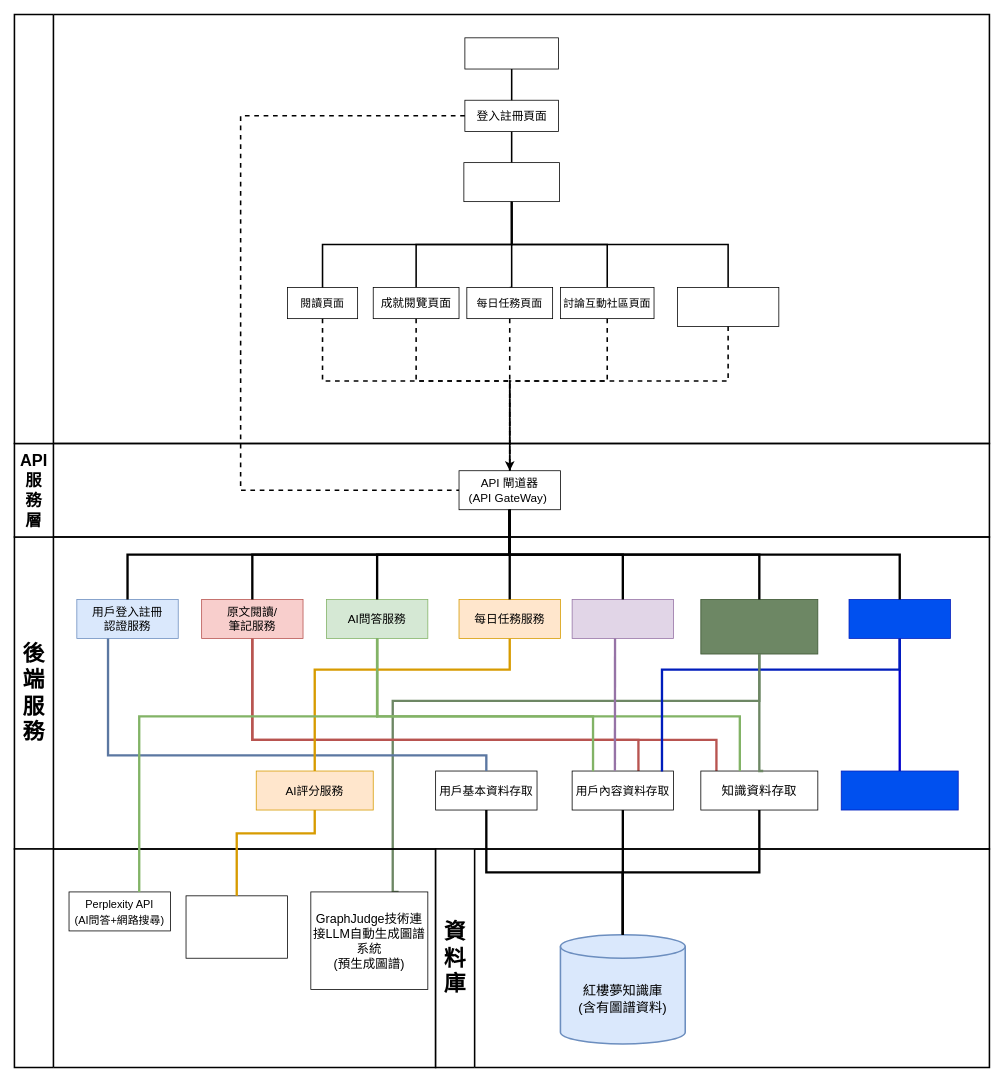
Image size: 1003x1081. Some labels were removed from this diagram. The box of each missing label's shape, as (x1, y1, x2, y2) in pixels:
OpenAI API GPT-5-mini (AI評分): (185, 895, 287, 958)
不良內容過濾服務: (840, 770, 958, 810)
介紹頁面: (464, 37, 558, 69)
個人帳號設定 頁面: (677, 287, 779, 326)
前 端 介 面: (13, 13, 990, 444)
外 部 服 務: (13, 848, 436, 1068)
成就系統服務: (571, 599, 674, 638)
知識圖譜服務 (章回圖譜): (700, 599, 818, 654)
社群互動服務: (848, 599, 950, 638)
首頁 (DashBoard): (463, 162, 559, 202)
